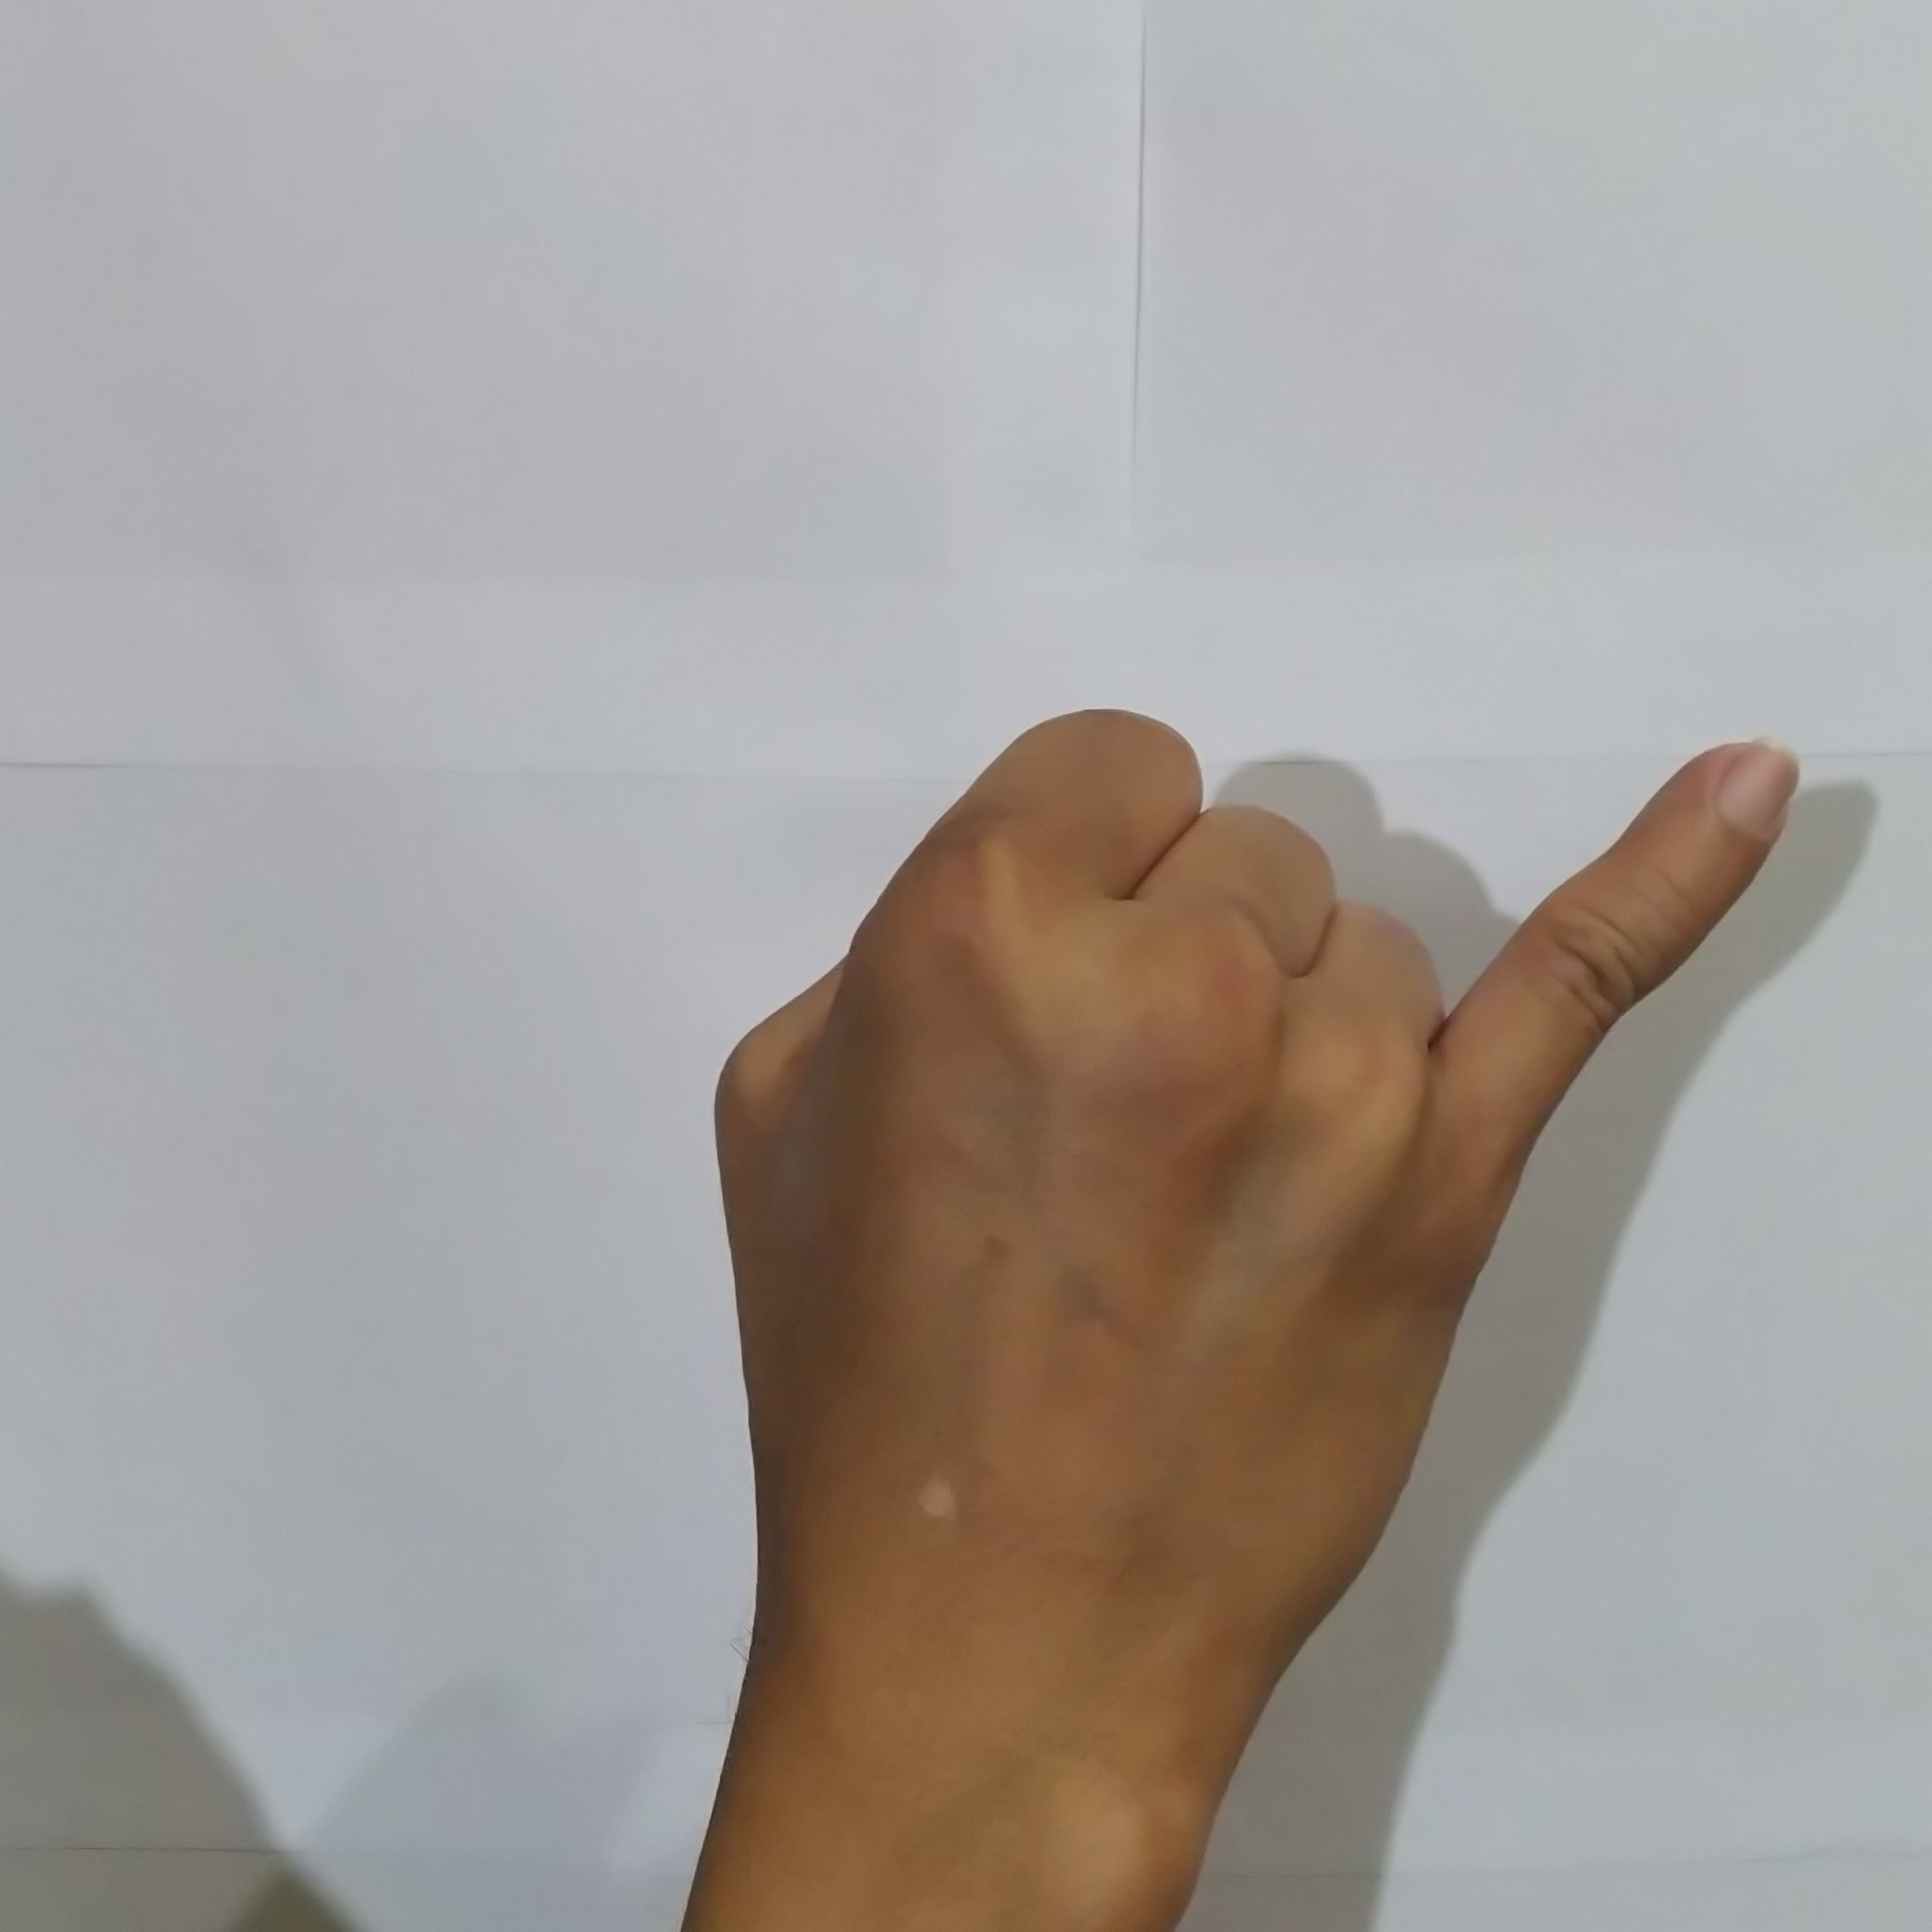J: (685, 678, 1813, 1582)
